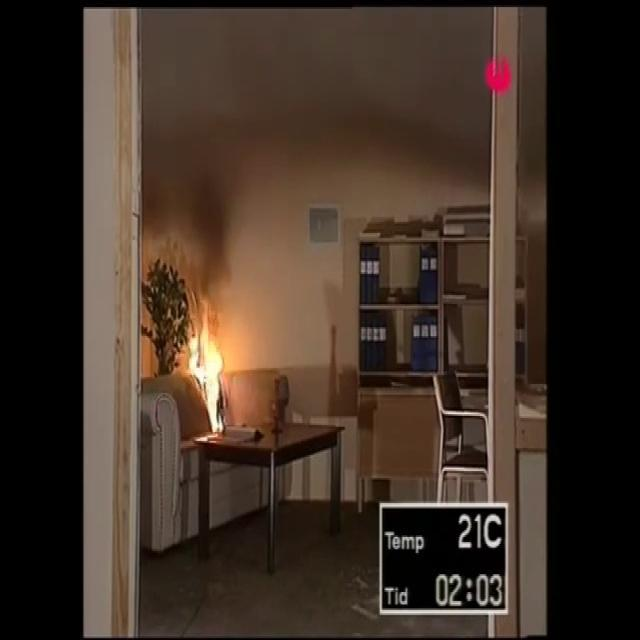Fire: (190, 316, 225, 429)
Smoke: (137, 0, 490, 216)
